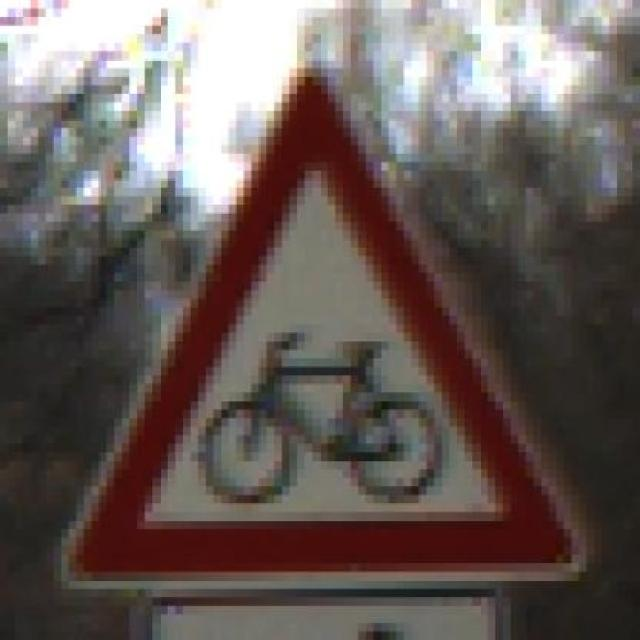CYCLE ROUTE AHEAD WARNING: (38, 60, 594, 589)
